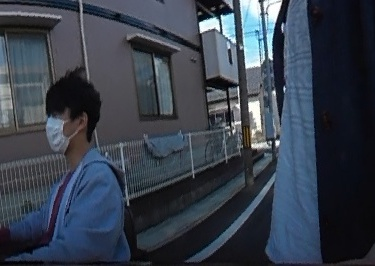person: (8, 61, 121, 266)
